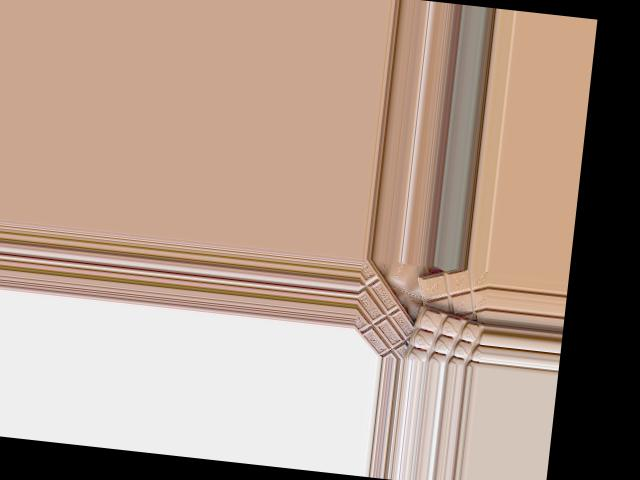chocolate: (413, 269, 490, 333)
